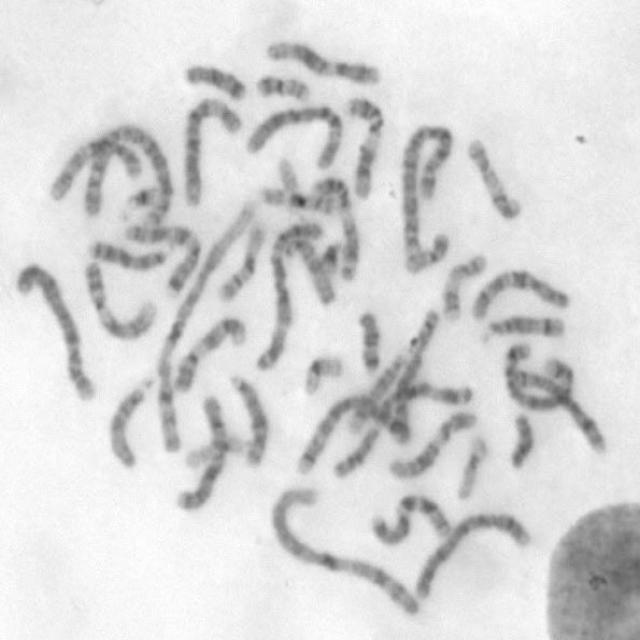A1: (152, 199, 256, 457), (267, 484, 425, 620)
A2: (82, 123, 175, 229), (400, 125, 454, 253)
A3: (332, 381, 474, 480), (252, 220, 322, 374)
B4: (14, 262, 100, 405), (411, 508, 532, 600)
B5: (296, 393, 410, 476), (504, 339, 576, 414)
C10: (47, 137, 143, 202), (464, 268, 572, 324)
C11: (311, 176, 360, 282), (344, 97, 386, 200)
C12: (385, 411, 483, 481), (264, 39, 384, 88)
C6: (244, 103, 344, 172), (183, 95, 243, 207)
C7: (125, 223, 203, 296), (367, 494, 453, 548)
C8: (511, 367, 608, 457), (391, 307, 440, 447)
C9: (82, 259, 159, 343), (172, 316, 249, 394)
D13: (228, 372, 268, 469), (87, 239, 175, 271)
D14: (344, 334, 416, 438), (476, 314, 568, 347)
D15: (104, 372, 155, 475), (284, 239, 339, 305)
E16: (216, 220, 267, 306), (256, 184, 338, 216)
E17: (462, 134, 522, 222), (440, 250, 490, 324)
E18: (183, 64, 247, 102), (355, 309, 384, 373)
F19: (184, 436, 256, 472), (299, 352, 343, 398)
F20: (404, 231, 452, 274), (254, 72, 311, 100)
G21: (123, 184, 159, 220), (316, 235, 343, 278)
G22: (455, 435, 492, 502), (276, 154, 306, 206)
X: (174, 389, 230, 512)
Y: (508, 412, 534, 470)
